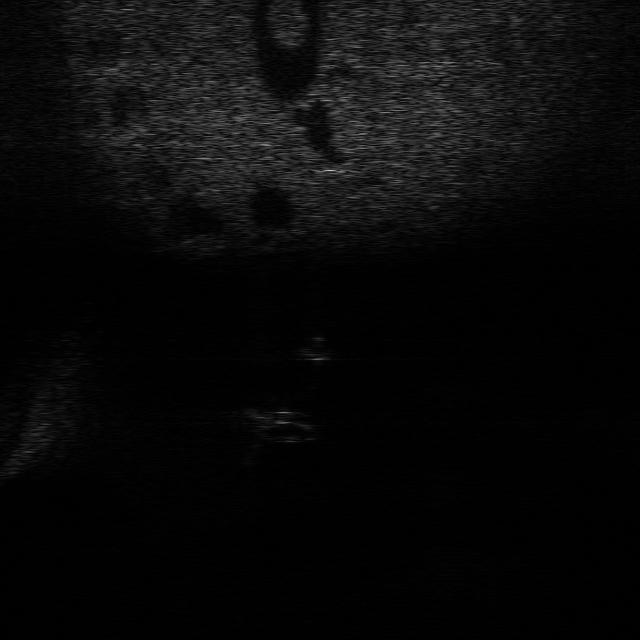ball: (288, 330, 342, 364)
square cage: (240, 407, 312, 433)
tyre: (254, 420, 321, 446)
